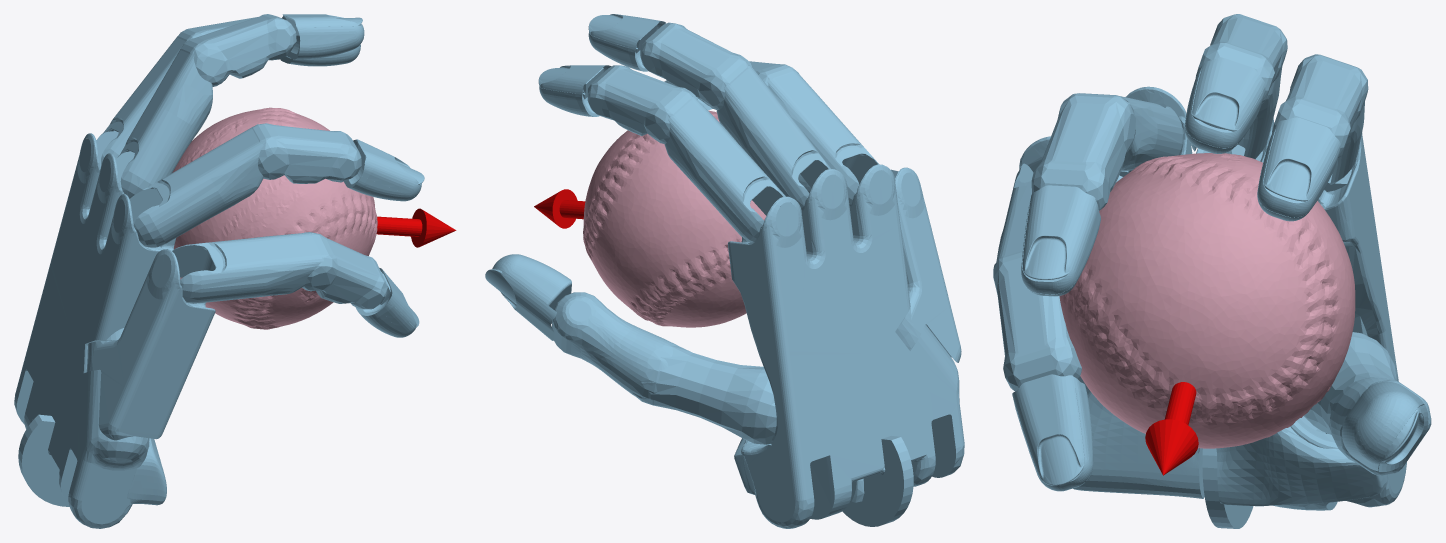
The picture shows the model from 3 angles, left to right: view 1: azimuth 30°, elevation 25°; view 2: azimuth 150°, elevation 25°; view 3: azimuth 270°, elevation 25°; orthographic projection. The views are drawn at different scales.
Parts seen in each view (by area): view 1: world, baseball.stl; view 2: world, baseball.stl; view 3: world, baseball.stl.
Part boxes in pixels (box(x1,y1,x2,y2)): world: box(14, 14, 456, 528); baseball.stl: box(172, 107, 377, 329); world: box(485, 14, 964, 528); baseball.stl: box(583, 110, 766, 327); world: box(993, 14, 1431, 528); baseball.stl: box(1059, 153, 1355, 448).
Bounding box in the file's own units: 0.1573 × 0.1639 × 0.1068.
